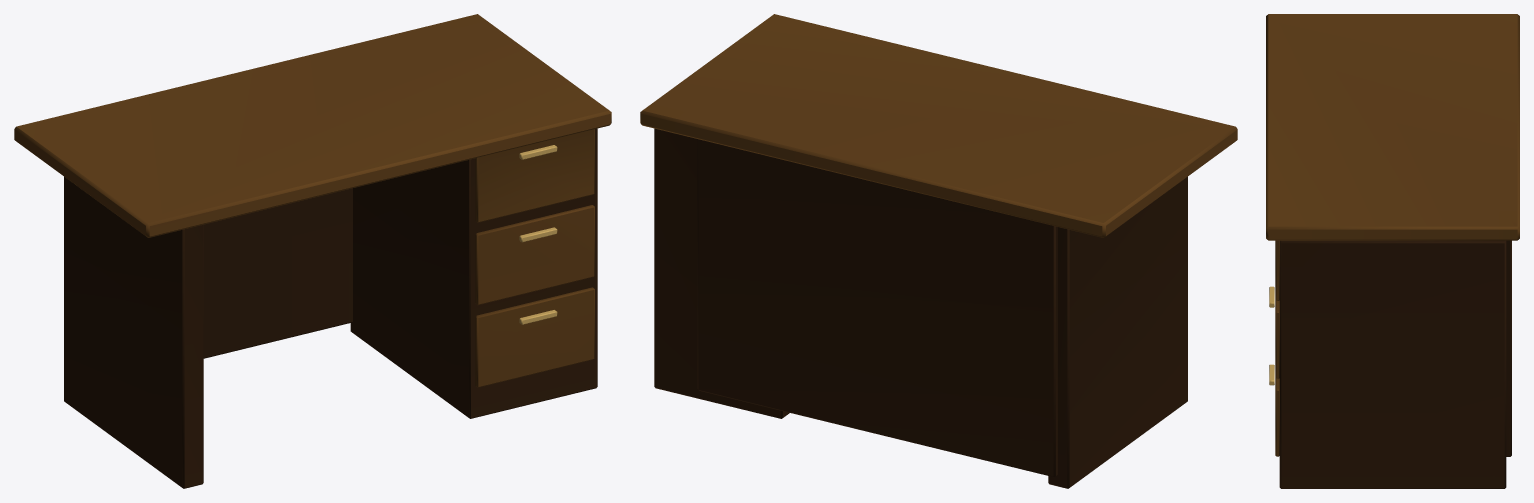
The model's file is school-teacher-desk.glb.
3 views of the same model, side by side, from view 1: azimuth 30°, elevation 25°; view 2: azimuth 150°, elevation 25°; view 3: azimuth 270°, elevation 25° (orthographic). The views are drawn at different scales.
Parts seen in each view (by area): view 1: desk__wood, pulls__brass; view 2: desk__wood; view 3: desk__wood.
Boxes of the visible parts, x1=… form: desk__wood: x1=14, y1=14, x2=611, y2=488; pulls__brass: x1=519, y1=145, x2=557, y2=324; desk__wood: x1=640, y1=14, x2=1237, y2=488; desk__wood: x1=1266, y1=14, x2=1519, y2=488.
Bounding box in the file's own units: 1.3 × 0.75 × 0.65.
